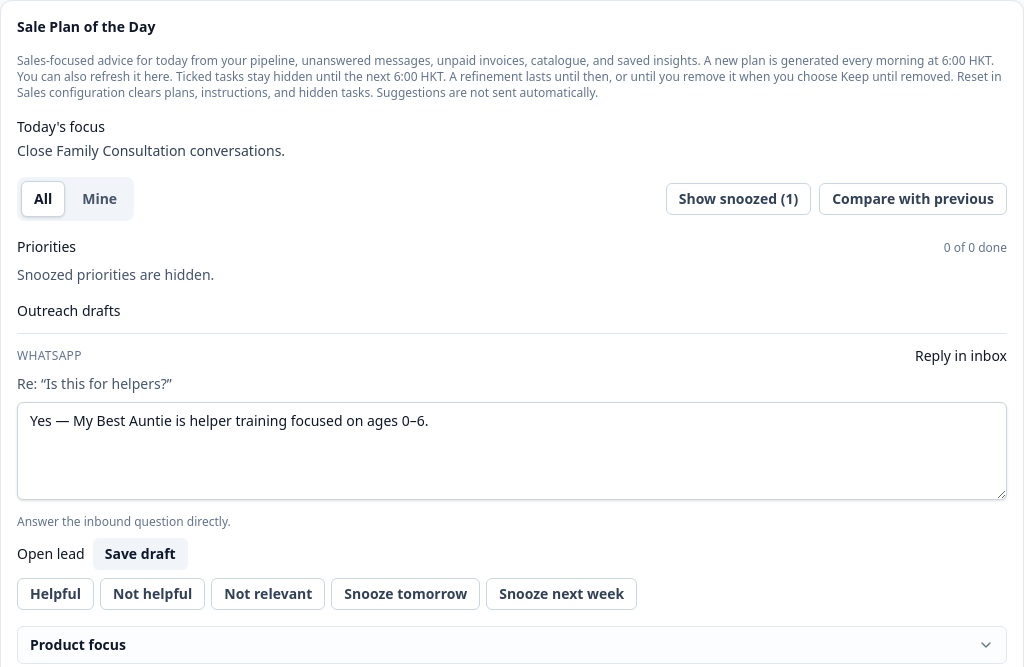
SalePlanOfTheDayCard › hides snoozed priorities until shown
Check: the text "Snoozed priorities are hidden." is shown, box [17, 265, 214, 284]
Check: the field labelled "Reply to Mei" is not shown
Click the button "Show snoozed (1)".
click(738, 199)  # box [666, 183, 811, 215]
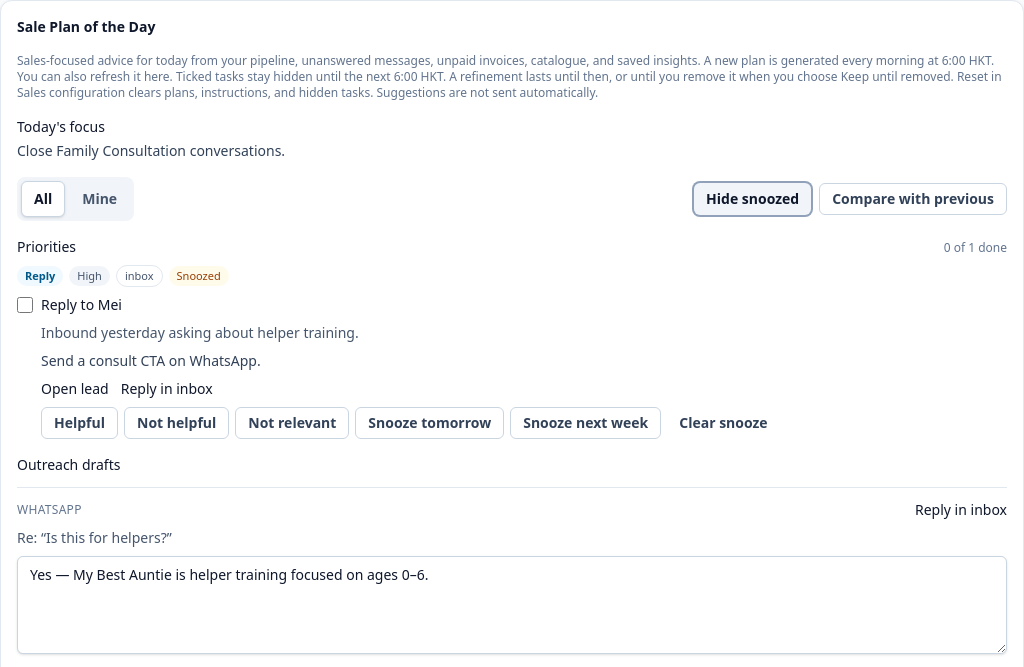
Check: the text "Snoozed" is shown, box [169, 266, 229, 286]
Check: the checkbox labelled "Reply to Mei" is shown, box [17, 297, 33, 313]
